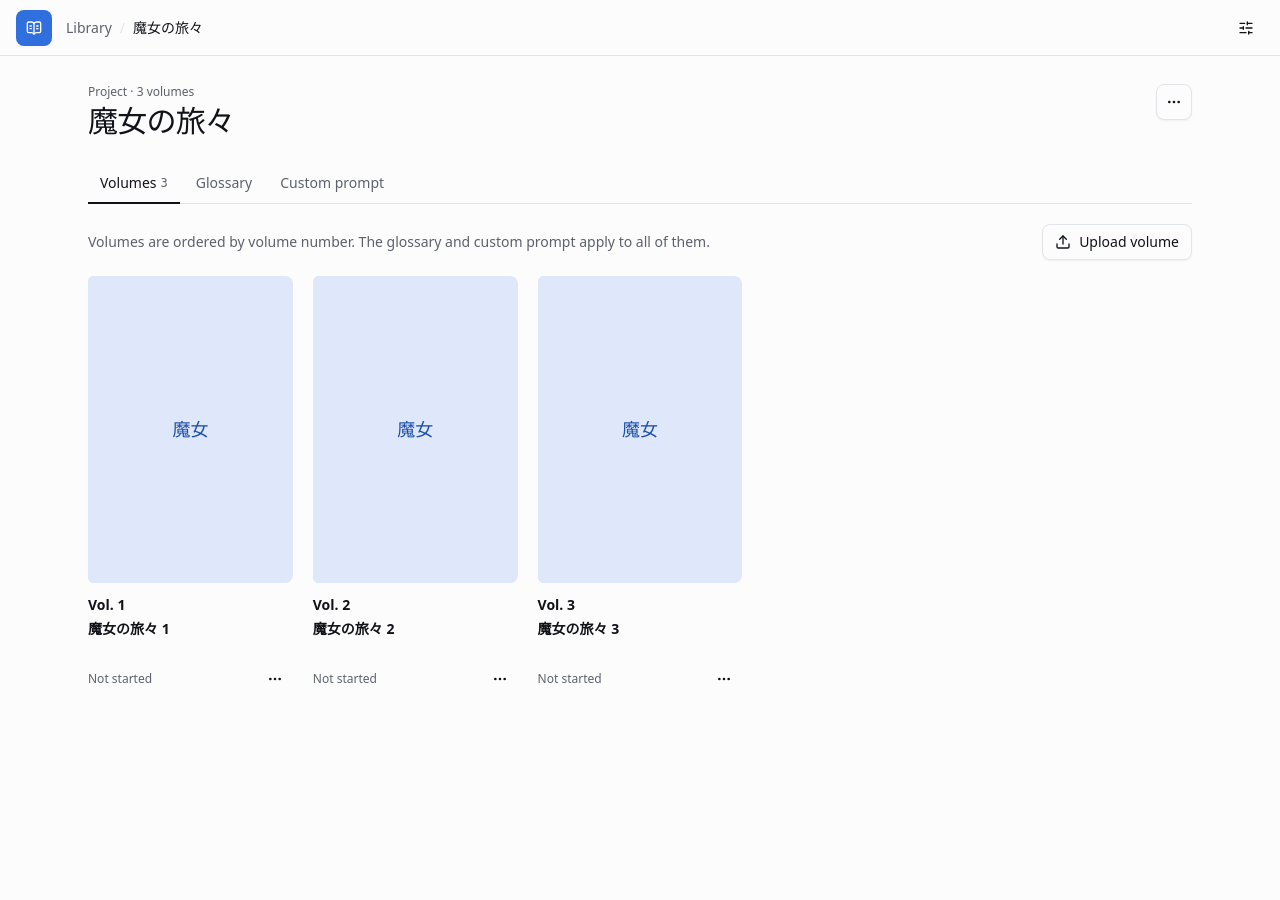
Test: Delete a project › cancelling keeps the project
The image size is (1280, 900).
Click the button named "Project actions".
click(1174, 102)  # box [1156,84,1192,120]
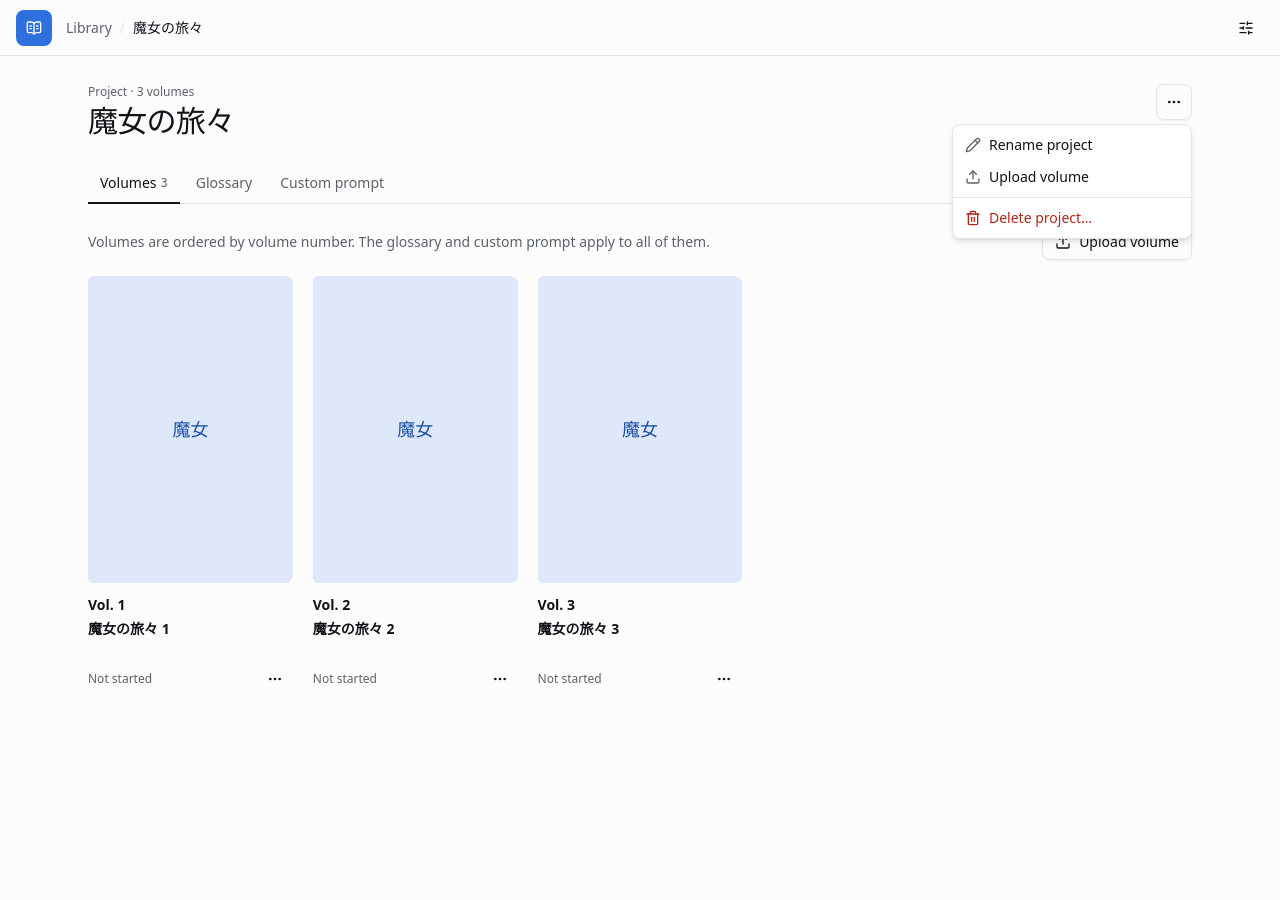
Click the menu item "Delete project…".
click(1029, 218)  # box [965,208,1092,227]
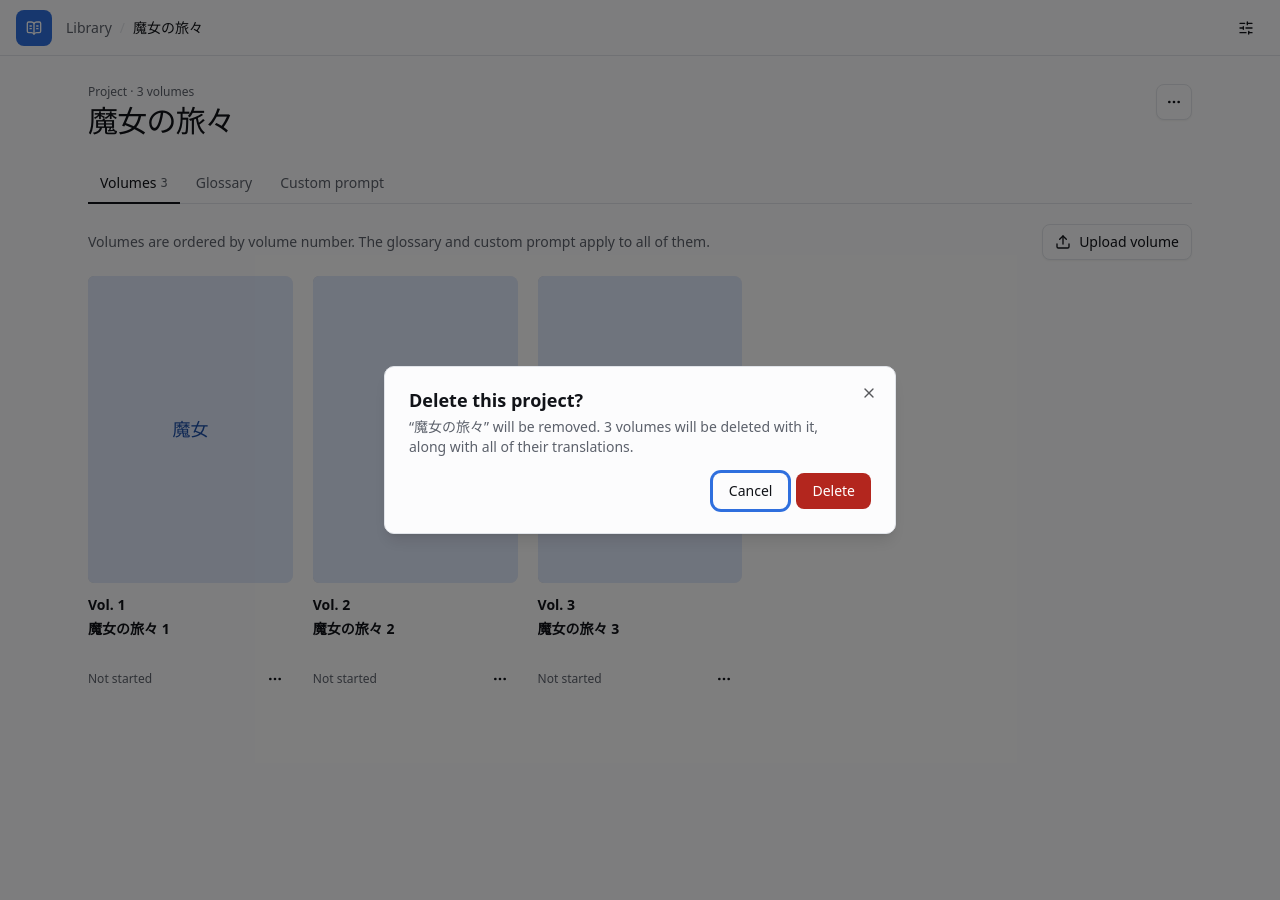
Click the button "Cancel".
click(751, 491)  # box [713,473,788,509]
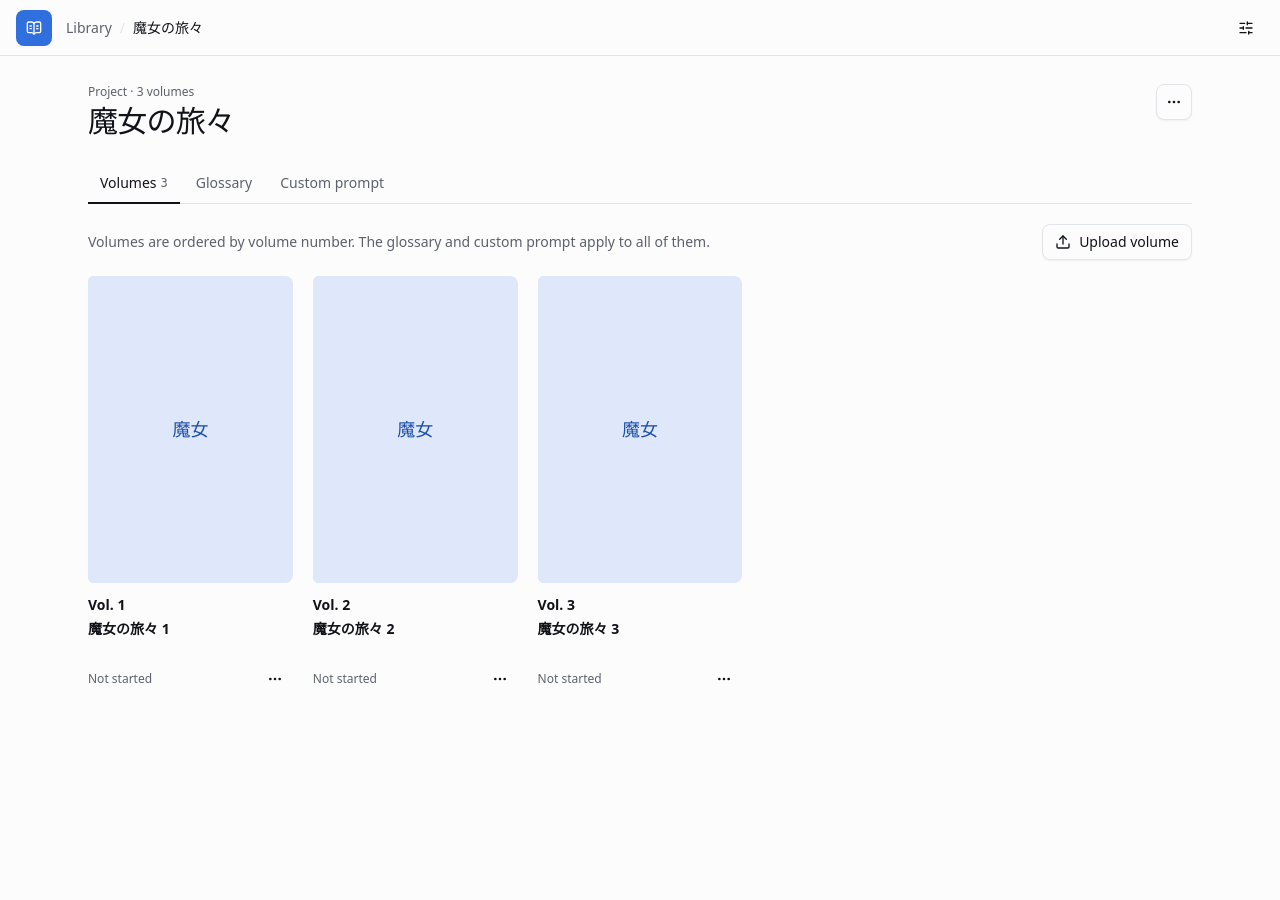
Now the dialog is gone
